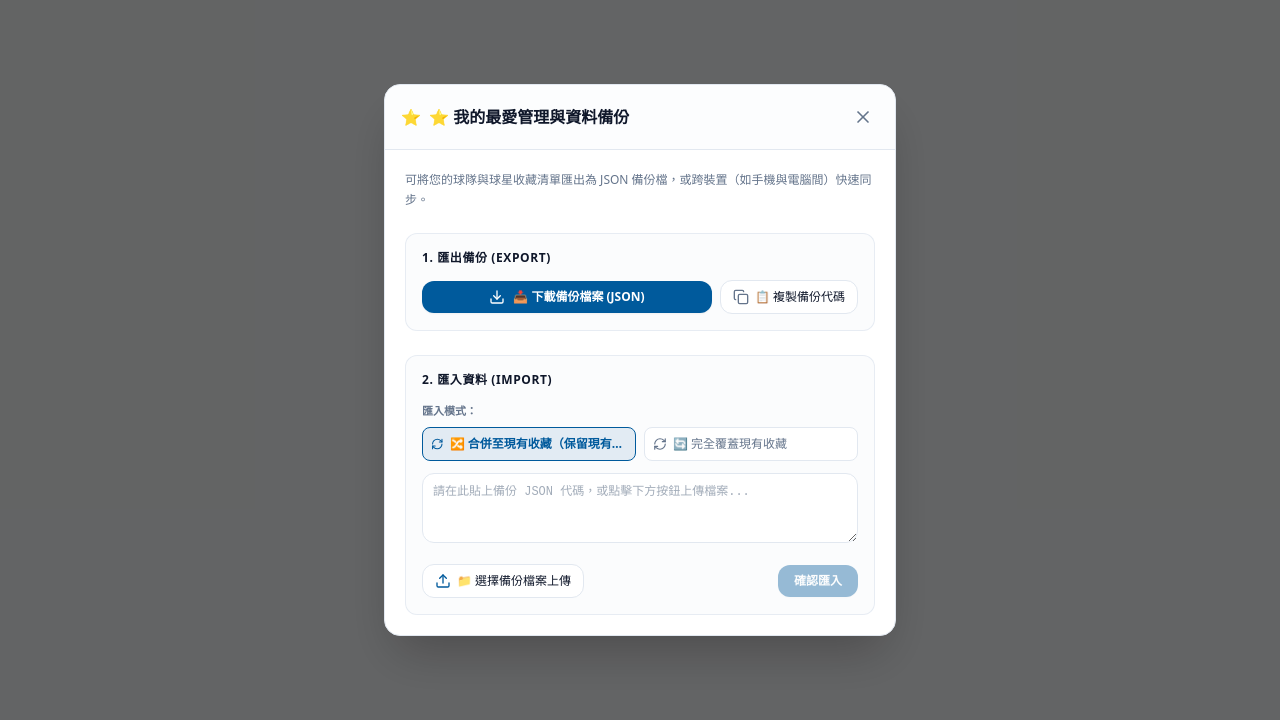
FavoritesBackupModal component › shows a translated error detail for invalid JSON input
This screenshot has width=1280, height=720.
In the text box with placeholder "請在此貼上備份 JSON 代碼，或點擊下方按鈕上傳檔案...": [640, 508] box [422,473,858,543], type "not-valid-json"
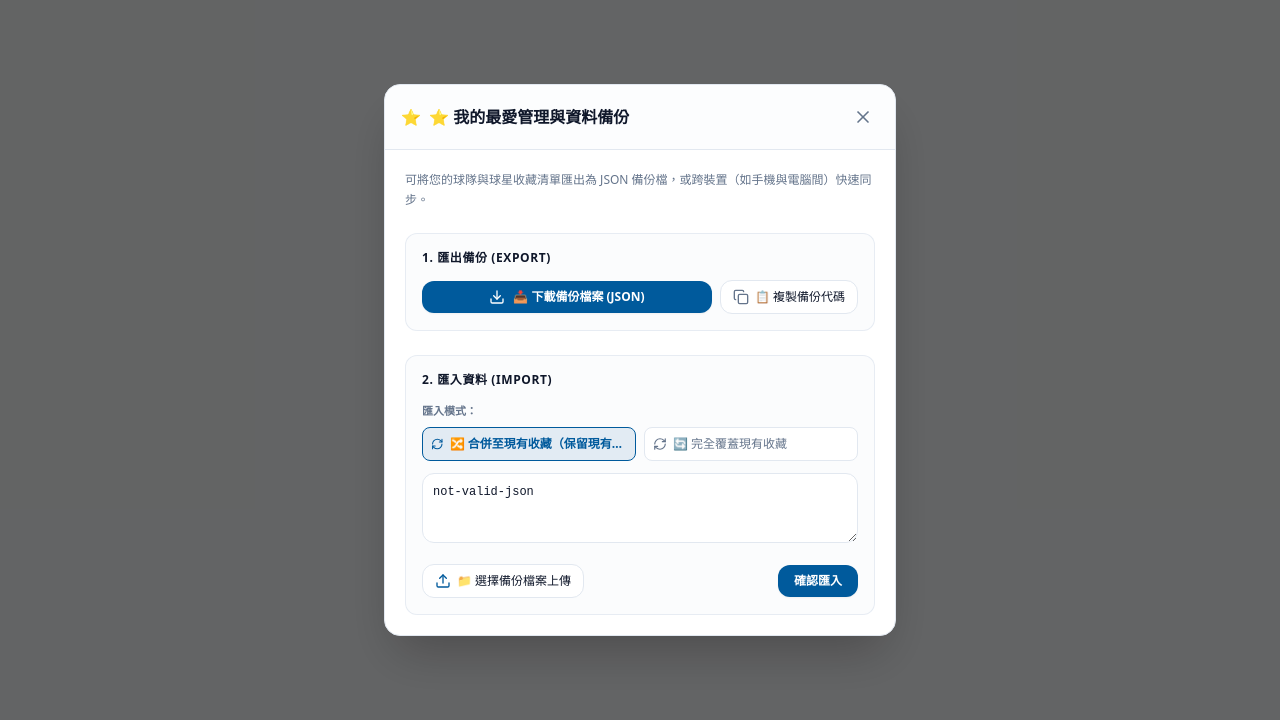
Click the button "確認匯入": [818, 581] box [778,565,858,597]
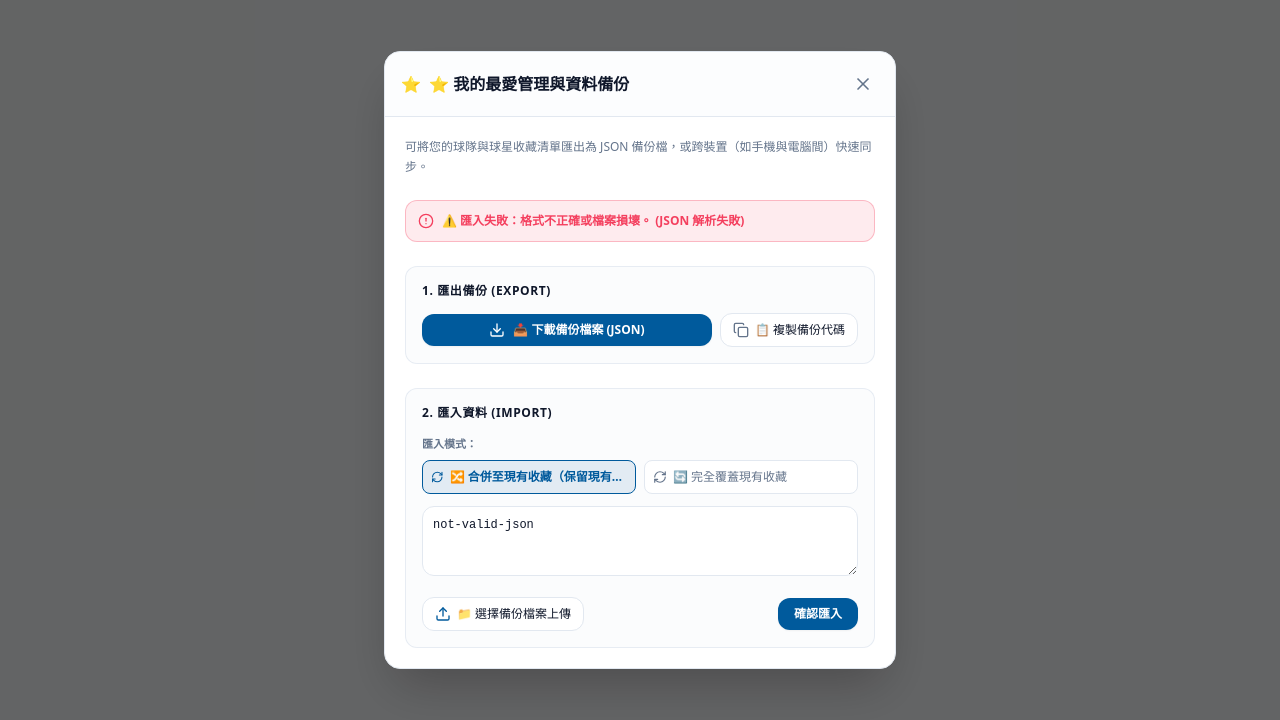
Now the text "⚠️ 匯入失敗：格式不正確或檔案損壞。 (JSON 解析失敗)" is shown, box [442,213,744,229]
